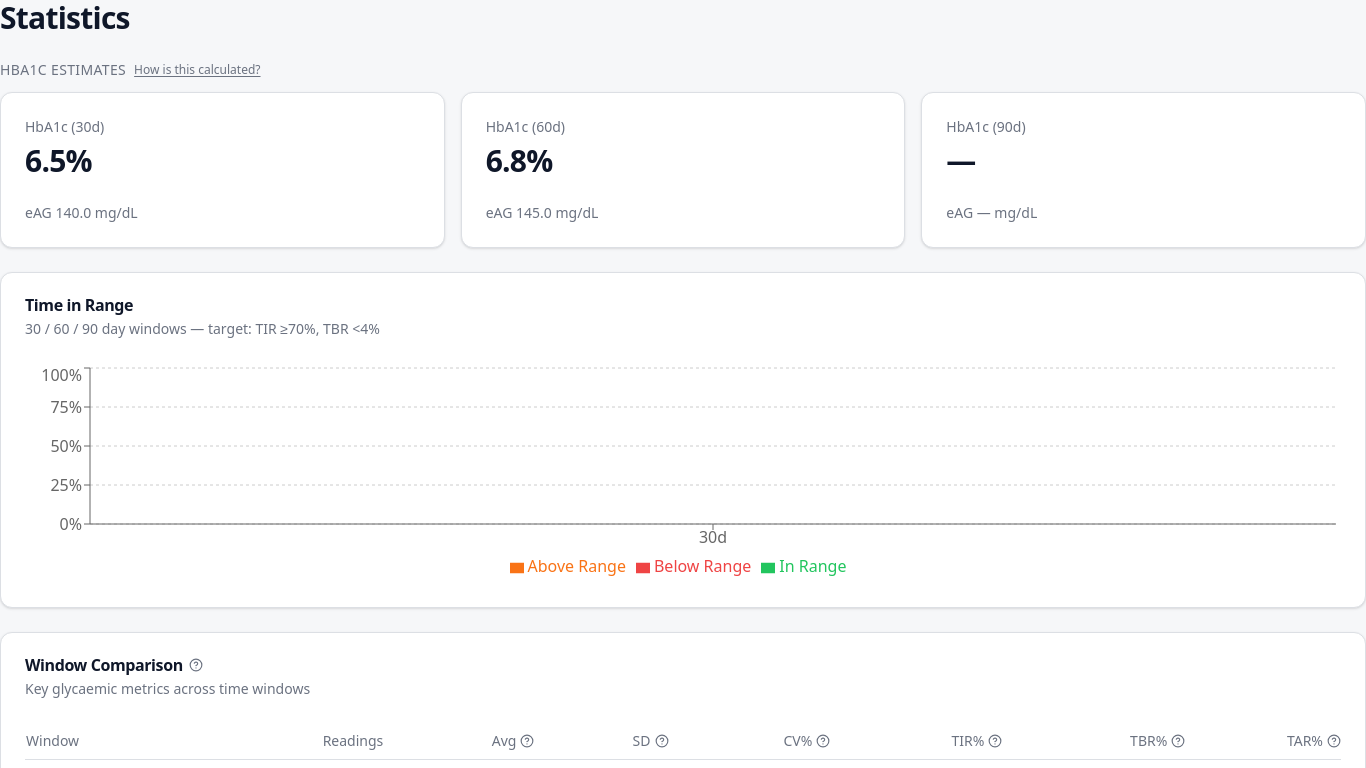
Scenario: Statistics — help elements (#87) › opens CV% popover with formula
Click the button named "help: coefficient of variation": (823, 741) [816, 734, 830, 748]
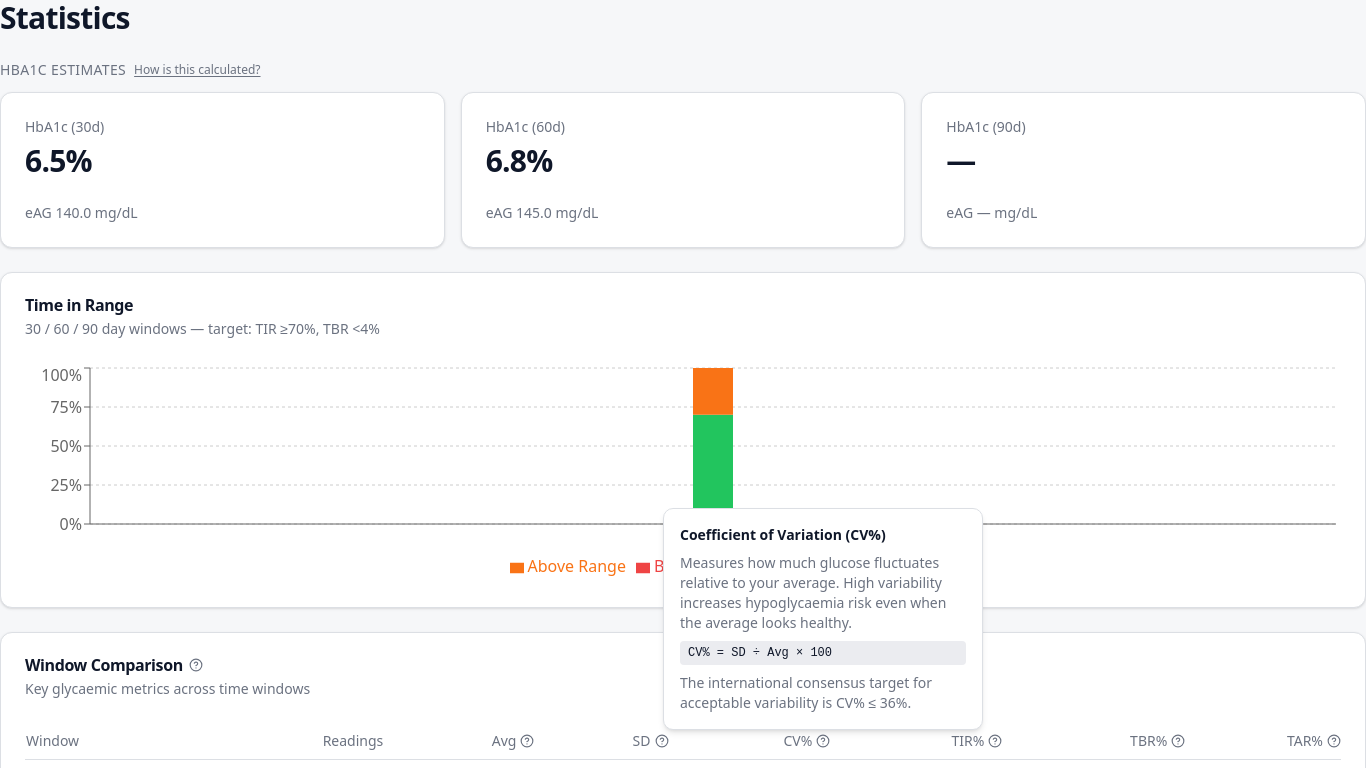
Check: the text "CV% = SD ÷ Avg × 100" is shown, box [680, 641, 966, 665]
